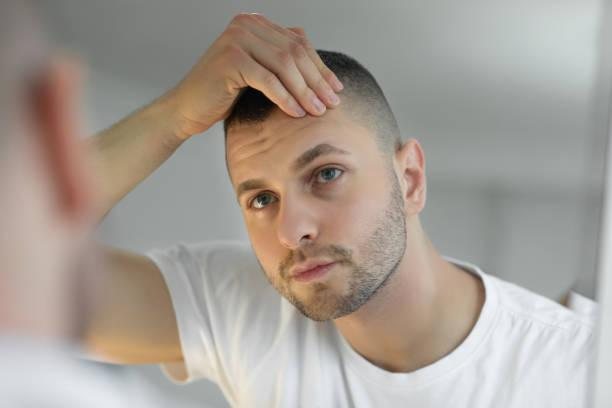Dry-Skin: (216, 123, 333, 179)
